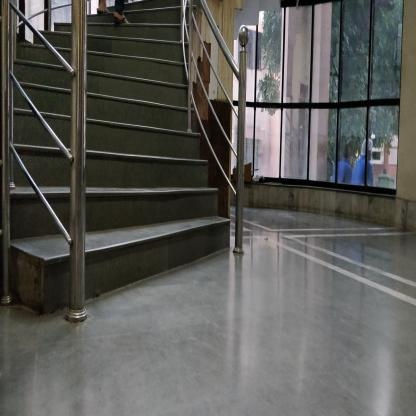stairs: (91, 157, 206, 308)
